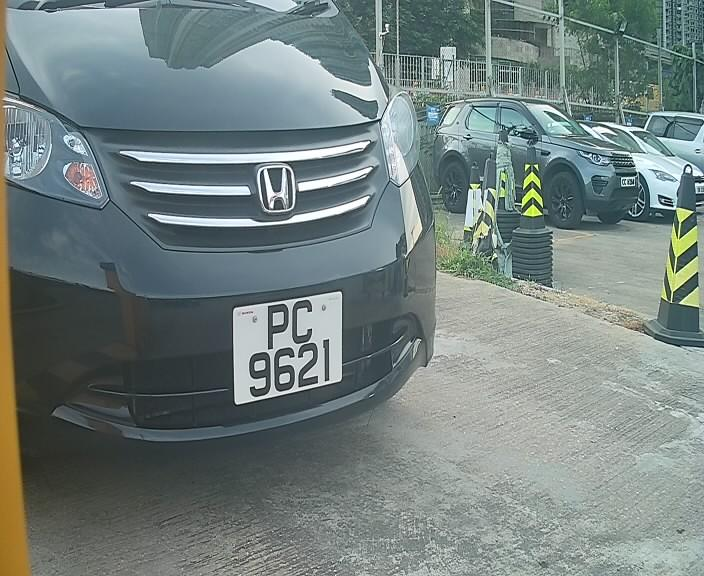License Plate: (224, 286, 349, 409)
